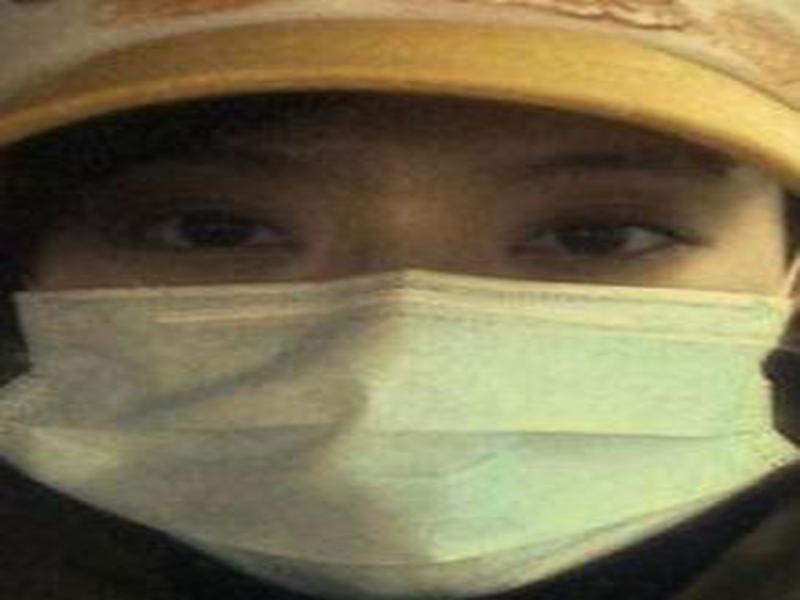with_mask: (1, 98, 799, 600)
